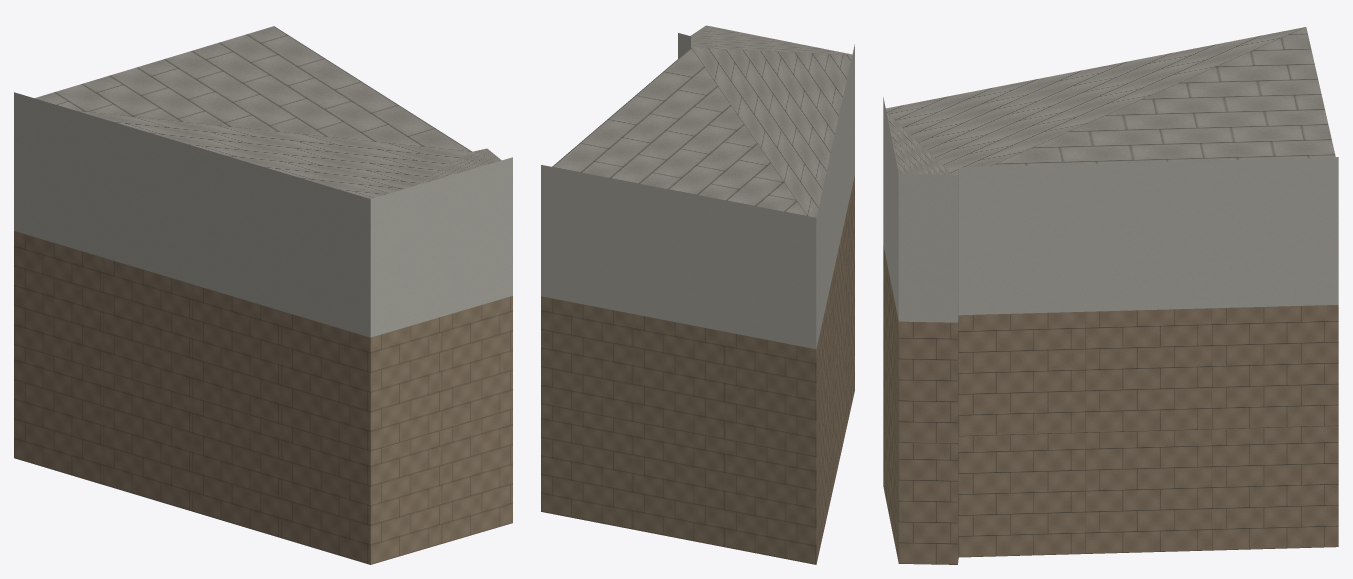
Rendered from bld_c32_45_239.gltf.
The picture shows the model from 3 angles, left to right: view 1: azimuth 30°, elevation 25°; view 2: azimuth 150°, elevation 25°; view 3: azimuth 270°, elevation 25°; orthographic projection. The views are drawn at different scales.
Parts seen in each view (by area): view 1: bld_c32_45_239; view 2: bld_c32_45_239; view 3: bld_c32_45_239.
Boxes of the visible parts, x1=… form: bld_c32_45_239: x1=14, y1=26, x2=512, y2=564; bld_c32_45_239: x1=541, y1=25, x2=854, y2=564; bld_c32_45_239: x1=883, y1=27, x2=1338, y2=564.
Bounding box in the file's own units: 6.45 × 7.28 × 7.7.
4 materials, 4 textured.
